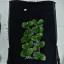leaf: (39, 54, 46, 60), (27, 48, 33, 55), (33, 54, 39, 60), (22, 49, 28, 55), (37, 33, 43, 39), (38, 26, 44, 32), (39, 41, 45, 47), (33, 45, 40, 50), (21, 22, 27, 27), (32, 19, 37, 25), (38, 19, 44, 24), (28, 41, 33, 47), (31, 36, 37, 41), (32, 27, 37, 33), (20, 52, 27, 56), (28, 20, 32, 26), (24, 31, 28, 37), (22, 44, 28, 48), (21, 38, 26, 42), (26, 36, 30, 40), (28, 29, 31, 33)
